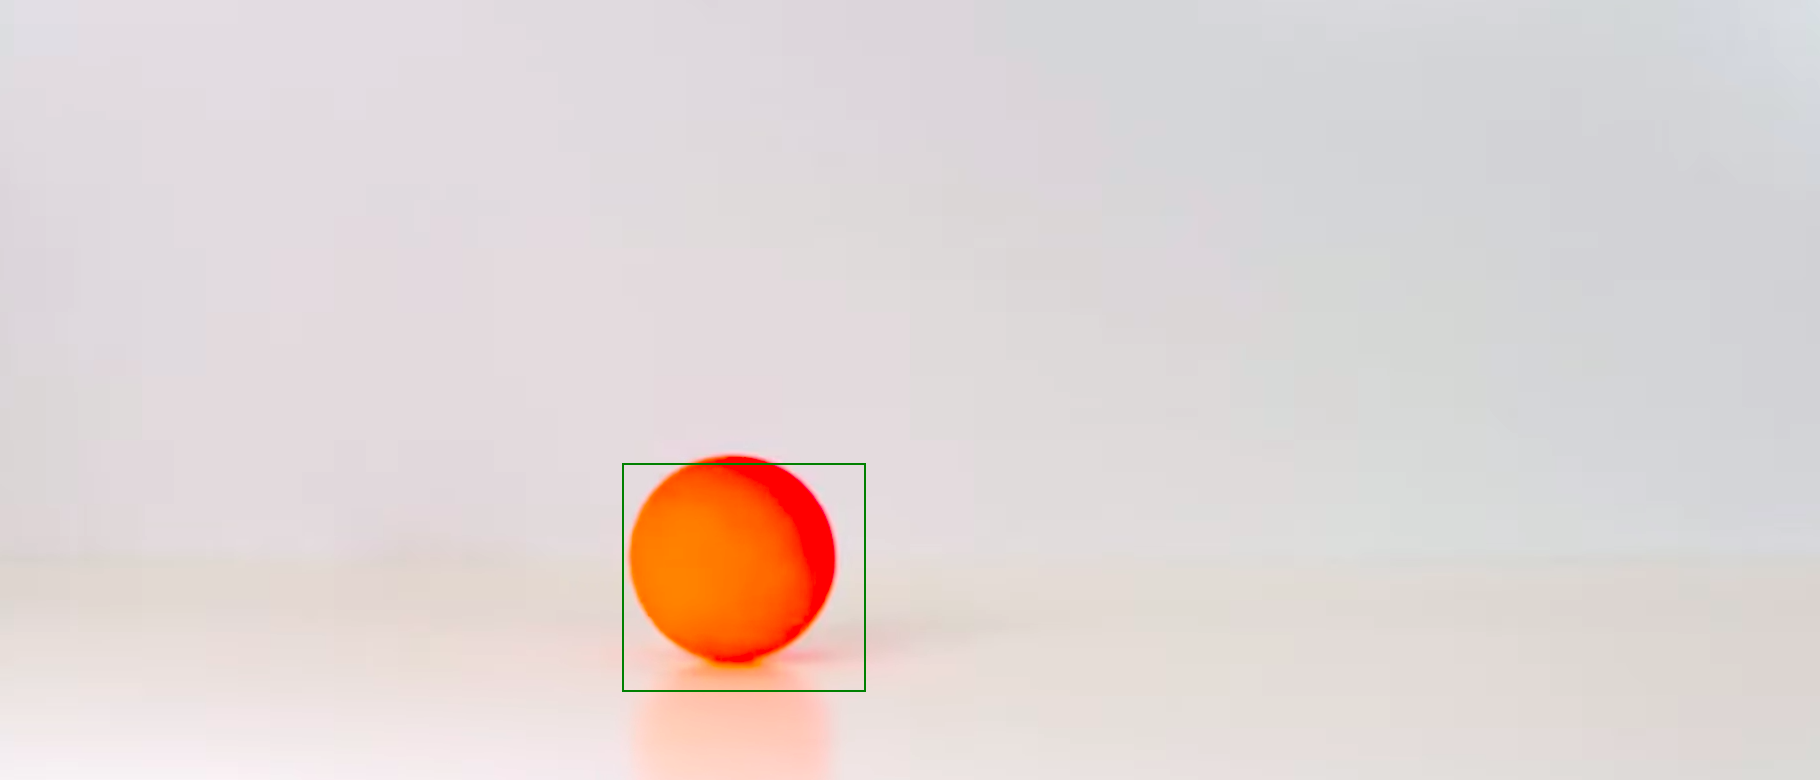Circle: (624, 453, 840, 665)
